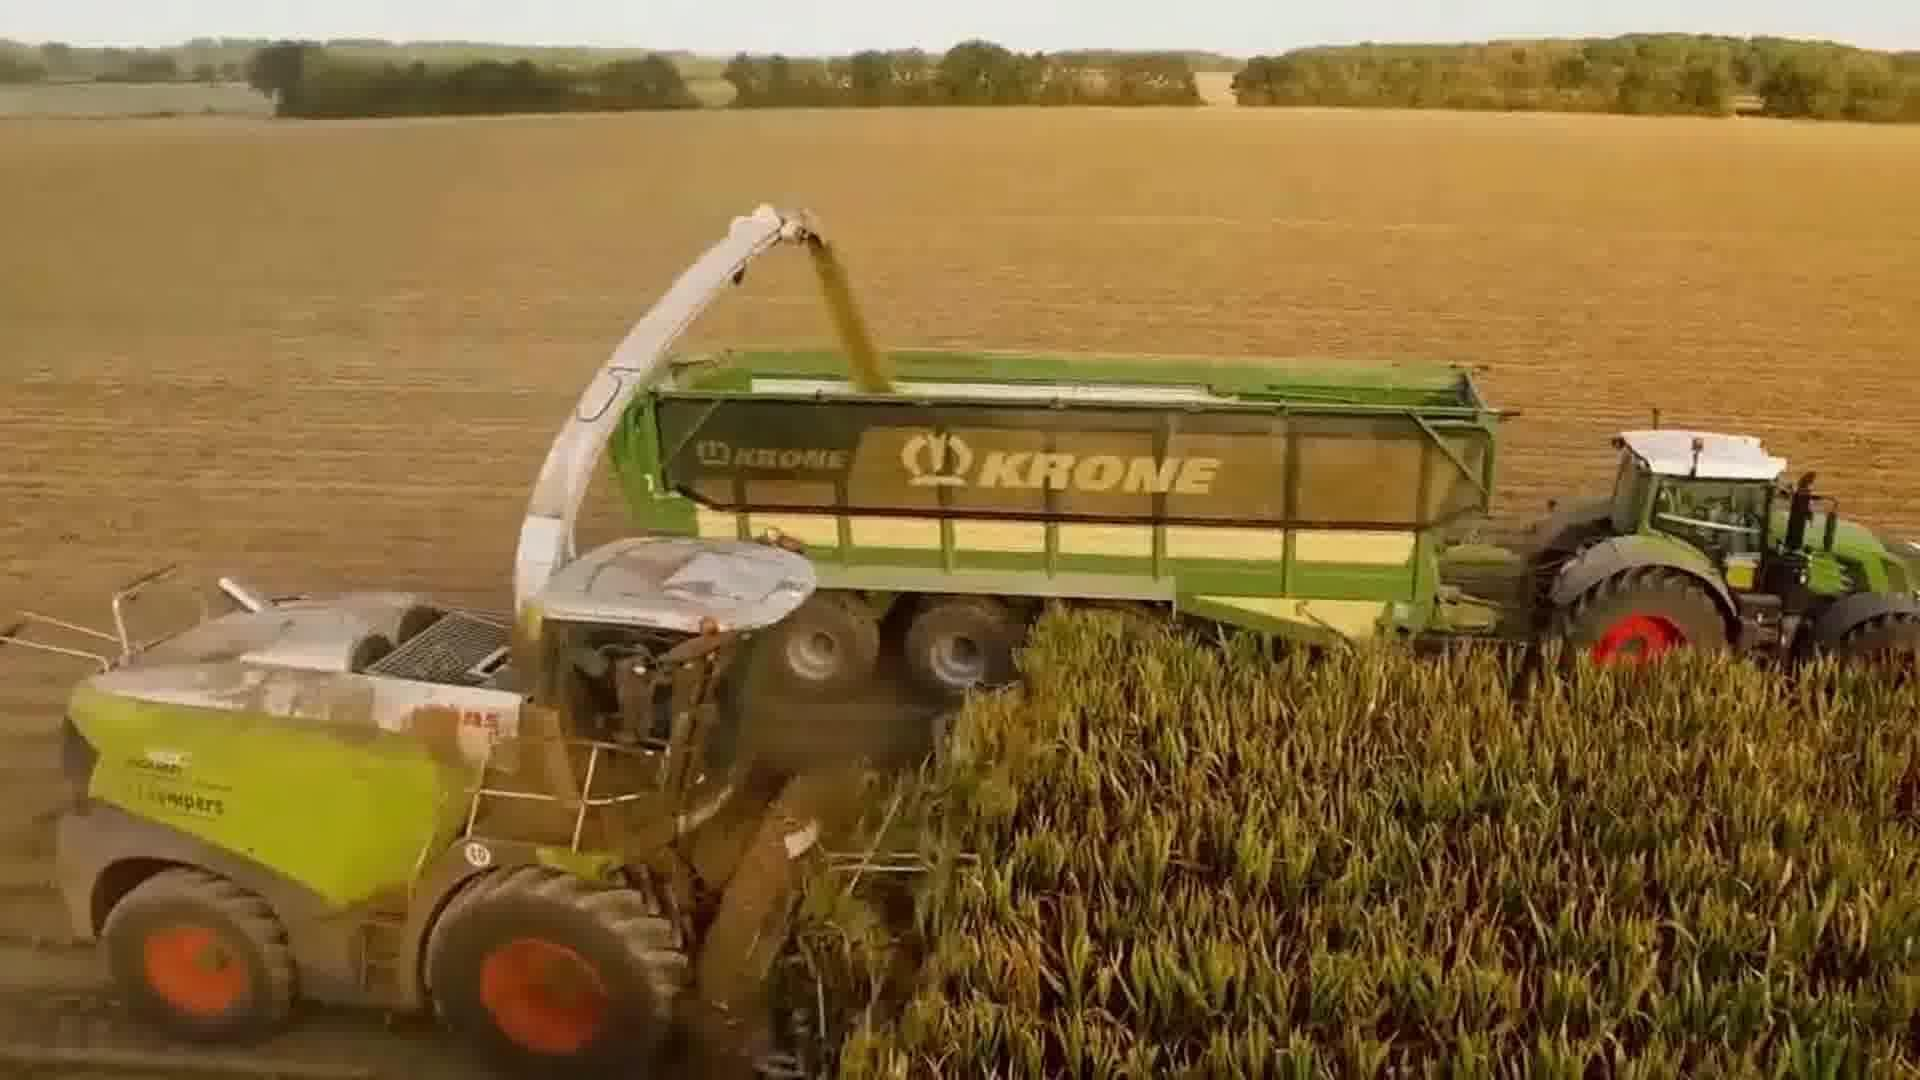combine harvester: (0, 183, 969, 1080)
tractor: (1513, 405, 1920, 707)
trailer: (587, 336, 1511, 703)
